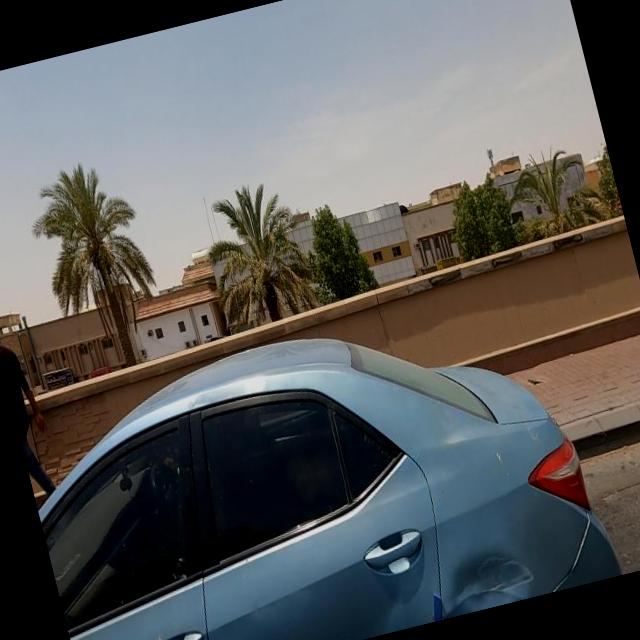debris: (26, 342, 100, 416)
